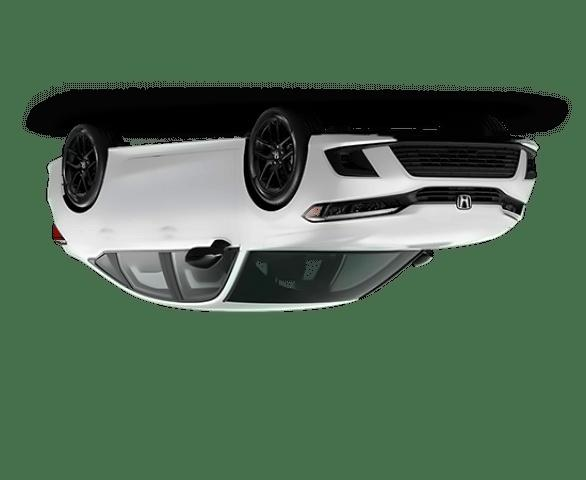Car hood: (258, 200, 523, 253)
Fender - -F-L-: (241, 134, 307, 250)
Fender - -R-L-: (62, 142, 114, 245)
Front bumper: (305, 124, 541, 199)
Headlight - -L-: (295, 189, 415, 229)
Headlight - -R-: (492, 188, 538, 230)
Passenger-s door - -F-L-: (158, 151, 253, 312)
Passenger-s door - -R-L-: (95, 153, 163, 301)
Rear bumper: (37, 151, 75, 207)
Rear light - -L-: (42, 216, 77, 254)
Side bumper - -L-: (103, 136, 253, 164)
Side mirror - -L-: (172, 230, 239, 275)
Side mirror - -R-: (409, 239, 454, 284)
